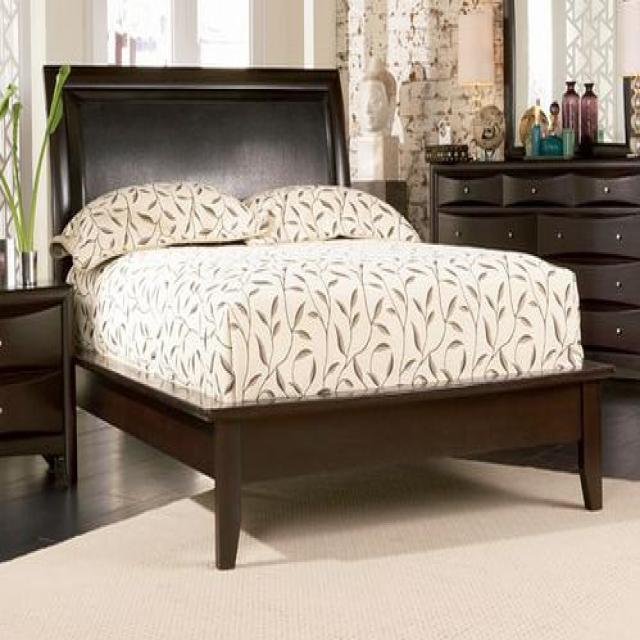bed: (42, 61, 614, 572)
